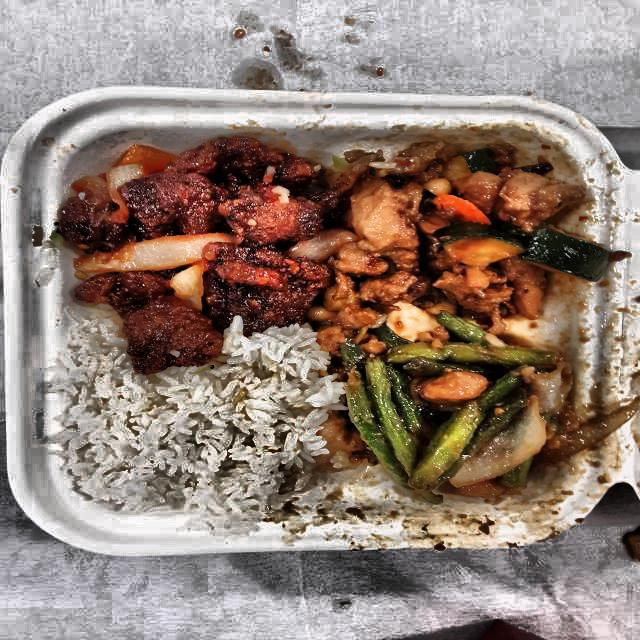Food: (59, 126, 335, 362), (326, 128, 610, 328), (338, 317, 594, 502), (64, 360, 329, 522)
